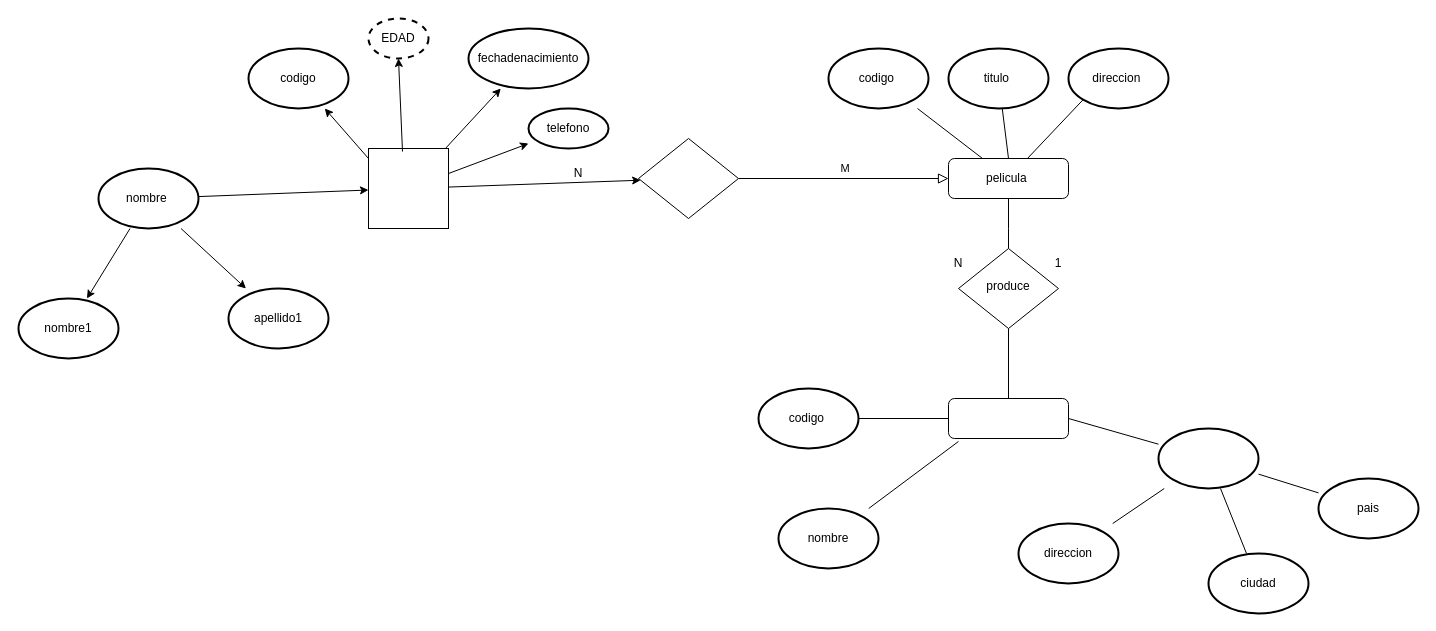
Some shapes in this 1436 by 631 pixel diagram are drawn without their labels. Each missing label, with the centre of its shape:
"ACTOR" goes at point 408,188.
"ACTUA" goes at point 688,178.
"domicilio" goes at point 1208,458.
"estudio" goes at point 1008,418.
